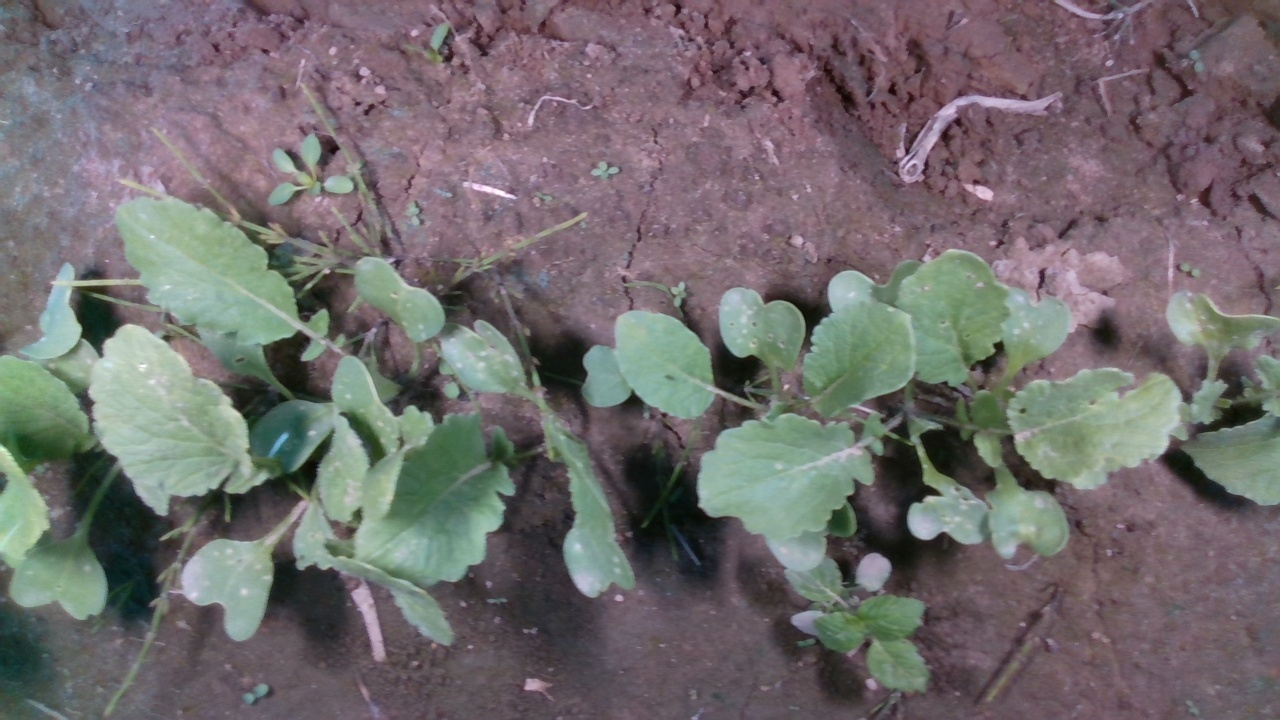weed: (588, 160, 621, 181), (241, 683, 270, 706), (1177, 261, 1200, 277)
